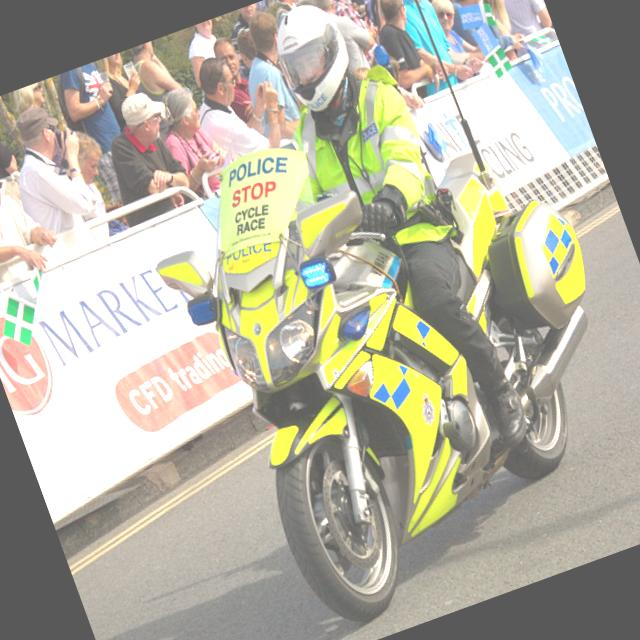Vehicle: (126, 97, 545, 640)
